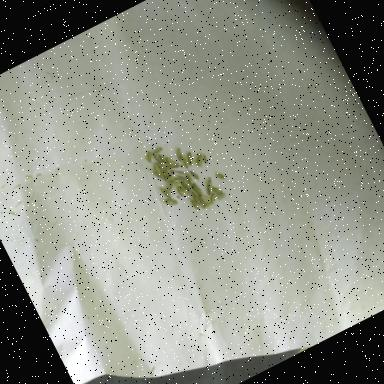pbw: (202, 179, 216, 195), (192, 154, 206, 169), (191, 181, 204, 197), (213, 168, 226, 182), (152, 168, 165, 182), (172, 174, 186, 187), (184, 151, 196, 166), (160, 185, 172, 200), (164, 196, 178, 208), (182, 180, 194, 194), (153, 152, 164, 167), (176, 171, 188, 184), (180, 154, 191, 168), (212, 184, 224, 196), (199, 192, 211, 204), (182, 185, 193, 198), (190, 197, 200, 211), (144, 150, 154, 164), (192, 192, 202, 206), (174, 147, 184, 160), (185, 173, 195, 186), (166, 155, 176, 168), (153, 162, 162, 176), (190, 169, 200, 181), (208, 192, 218, 204), (176, 185, 186, 197), (162, 168, 172, 179), (166, 182, 176, 193), (156, 160, 165, 172), (164, 174, 176, 183), (176, 167, 186, 177), (158, 153, 167, 164), (151, 146, 163, 154), (216, 192, 228, 200), (198, 194, 206, 205), (201, 154, 209, 164), (201, 202, 211, 210), (164, 164, 173, 172), (181, 182, 188, 190), (173, 162, 181, 168), (168, 154, 174, 160)
